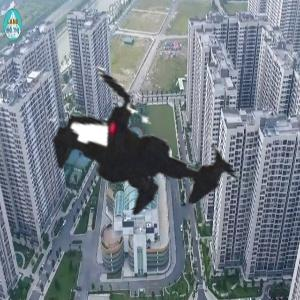drone: (7, 3, 288, 284)
